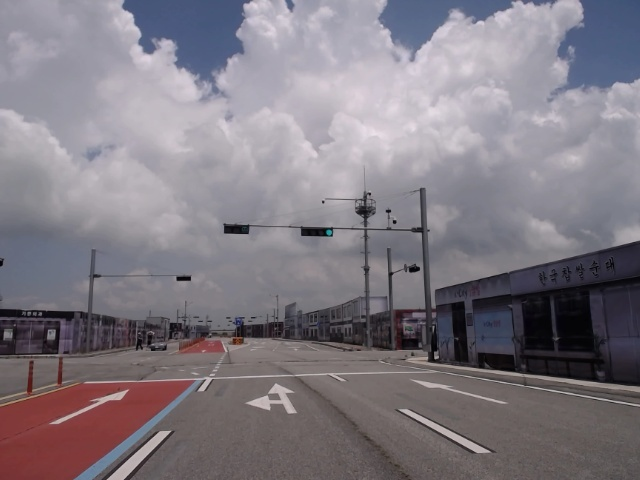straight_green_4: (302, 226, 334, 238)
